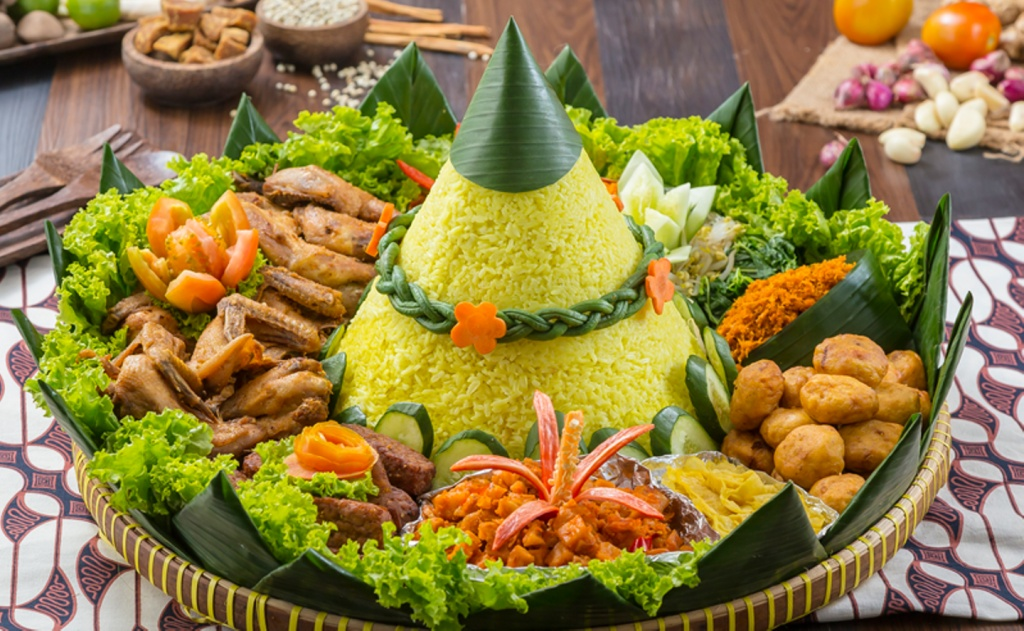nasi_tumpeng: (107, 14, 928, 553)
